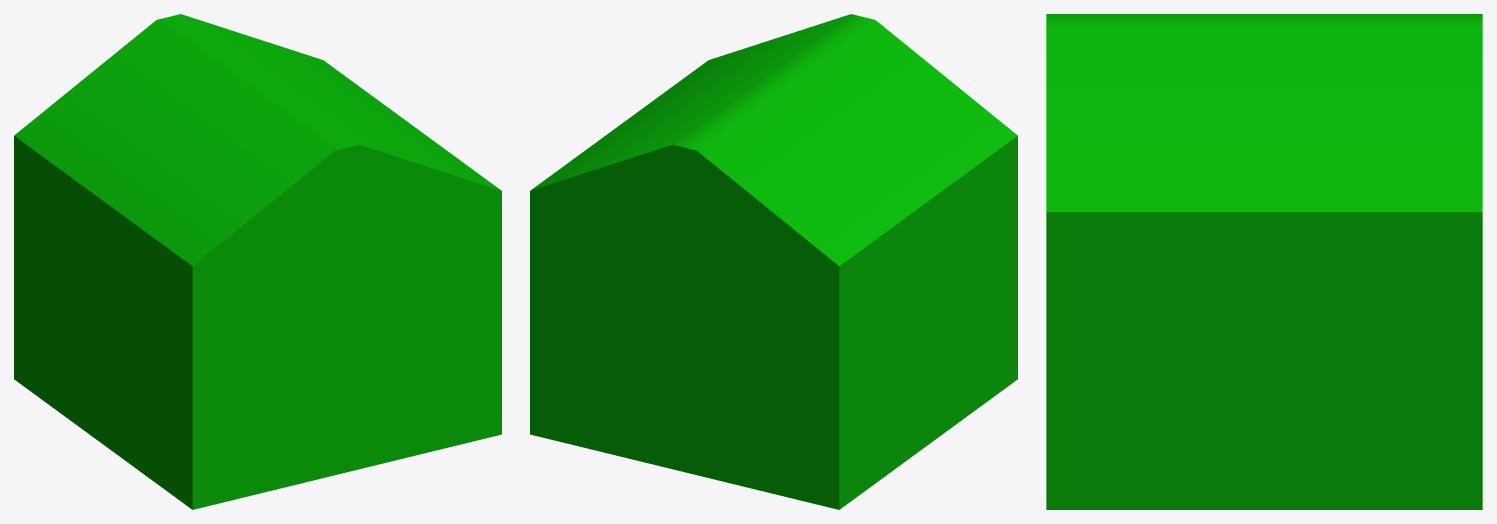
The model's file is punto5.glb.
3 renders of one model, left to right at view 1: azimuth 30°, elevation 25°; view 2: azimuth 150°, elevation 25°; view 3: azimuth 270°, elevation 25°, orthographic. The views are drawn at different scales.
Visible parts, largest first — view 1: punto5; view 2: punto5; view 3: punto5.
Boxes of the visible parts, x1,y1,x2,y2 form: punto5: (14, 14, 501, 509); punto5: (530, 14, 1017, 509); punto5: (1046, 14, 1482, 509).
Size of the model in its own units: 0.508 by 0.5131 by 0.508.
